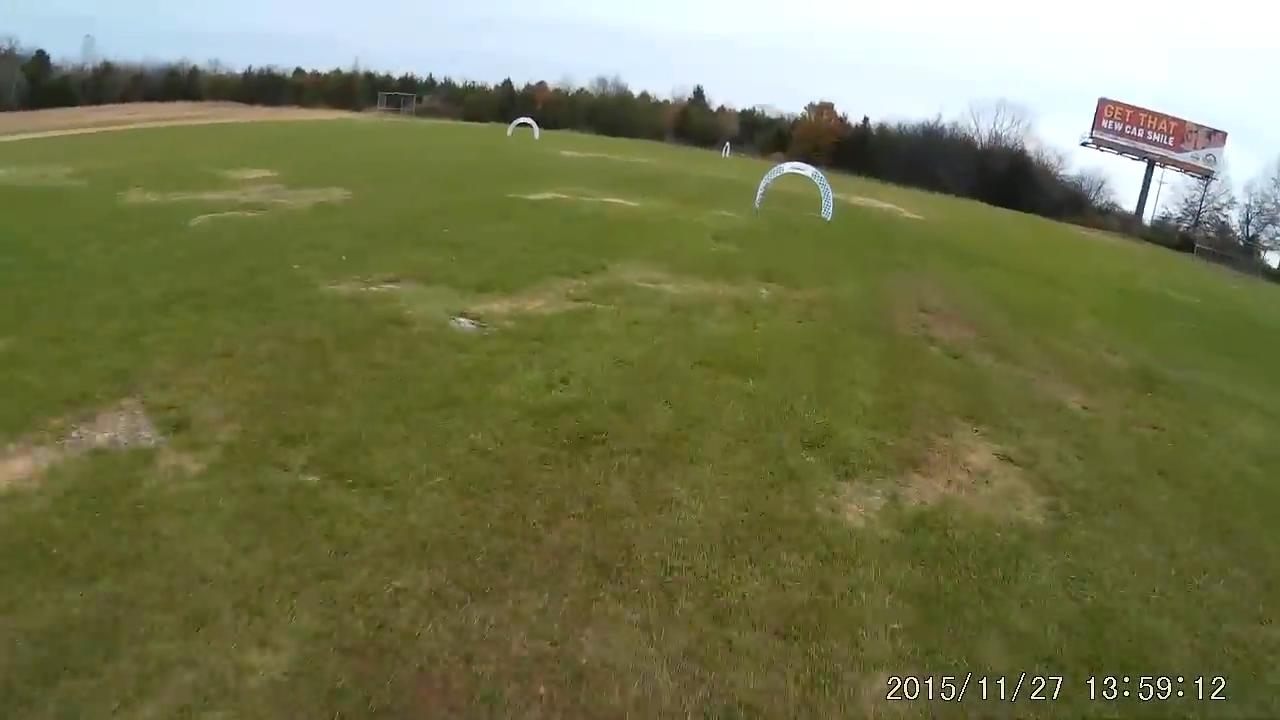gate: (753, 161, 835, 222)
